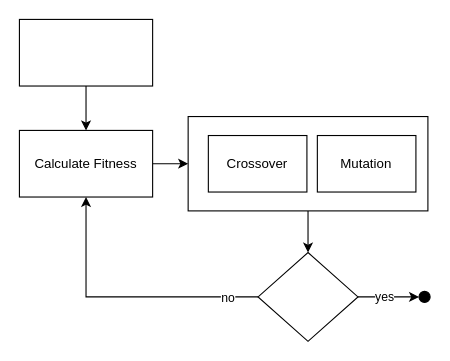
The diagram is 450 pixels wide and 361 high, and some of its shapes have lost their labels. The shapes that lost their labels are listed below. From the top down, each one's box as (x1, y1, x2, y2) in pixels, then its label:
(18, 18, 153, 86): Initial Population
(257, 251, 358, 341): Is stopping condition met ?
